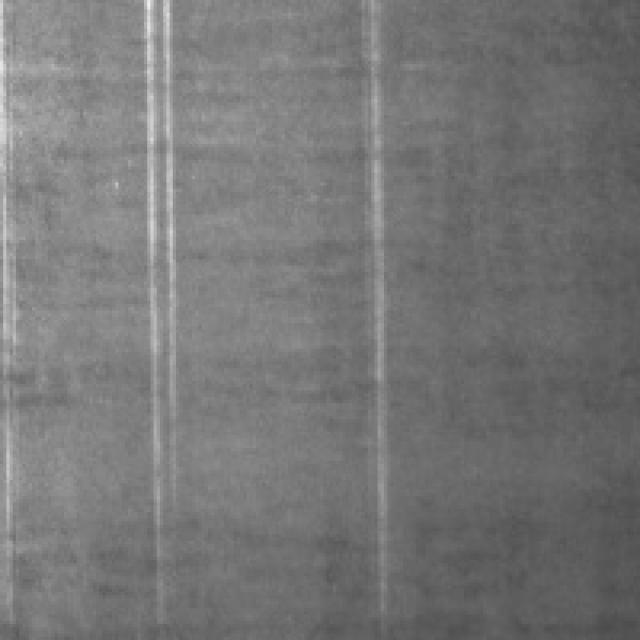scratches: (358, 0, 404, 621), (144, 0, 189, 541)
